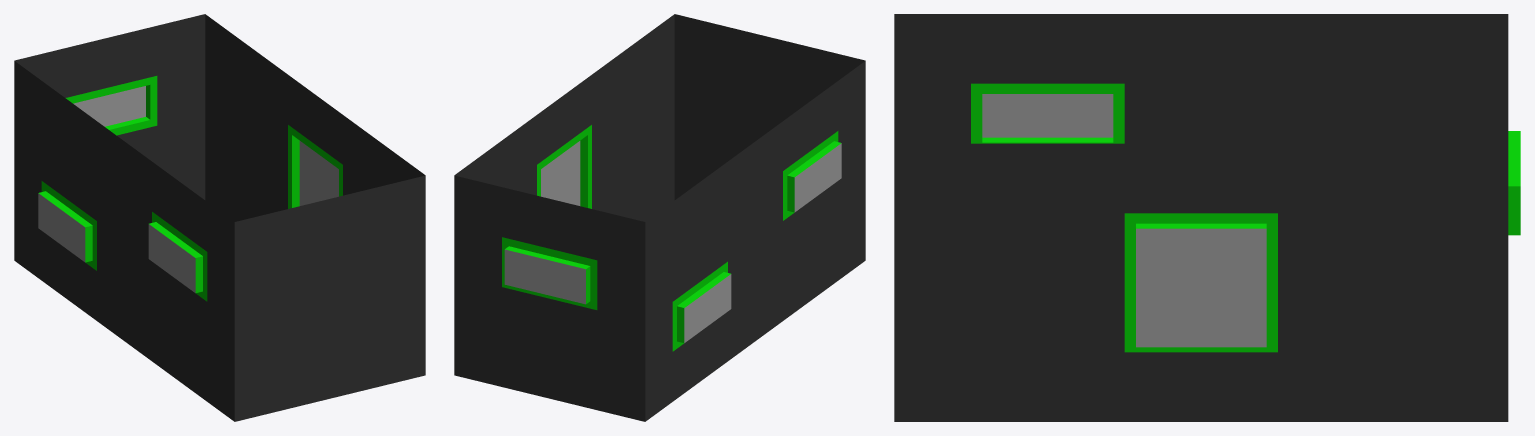
File: SM_Walls_002.fbx
3 views of the same model, side by side, from view 1: azimuth 30°, elevation 25°; view 2: azimuth 150°, elevation 25°; view 3: azimuth 270°, elevation 25° (orthographic). The views are drawn at different scales.
Visible parts, largest first — view 1: polySurface2; view 2: polySurface2; view 3: polySurface2.
Boxes of the visible parts, x1,y1,x2,y2 form: polySurface2: (14, 14, 425, 421); polySurface2: (454, 14, 865, 421); polySurface2: (894, 14, 1520, 421).
Size of the model in its own units: 540 by 500 by 1020.
